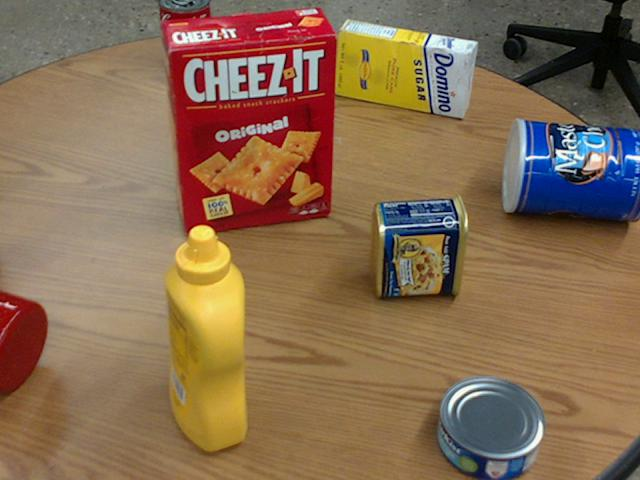cracker_box: (159, 8, 336, 233)
master_chef_can: (501, 118, 639, 221)
mug: (0, 288, 47, 390)
mustard_bottle: (162, 224, 245, 450)
potted_meat_can: (370, 193, 468, 297)
sugar_box: (335, 18, 479, 116)
tomato_soup_can: (158, 0, 213, 79)
tuna_fish_can: (436, 376, 542, 479)
